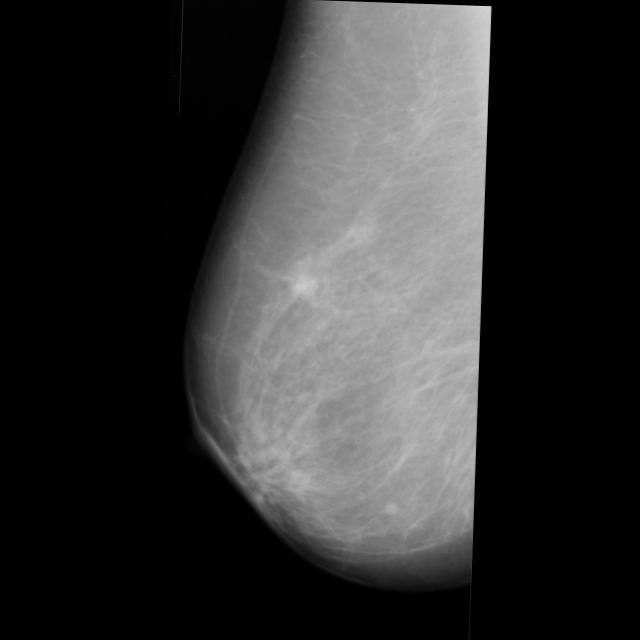ARCH: (357, 2, 541, 349)
